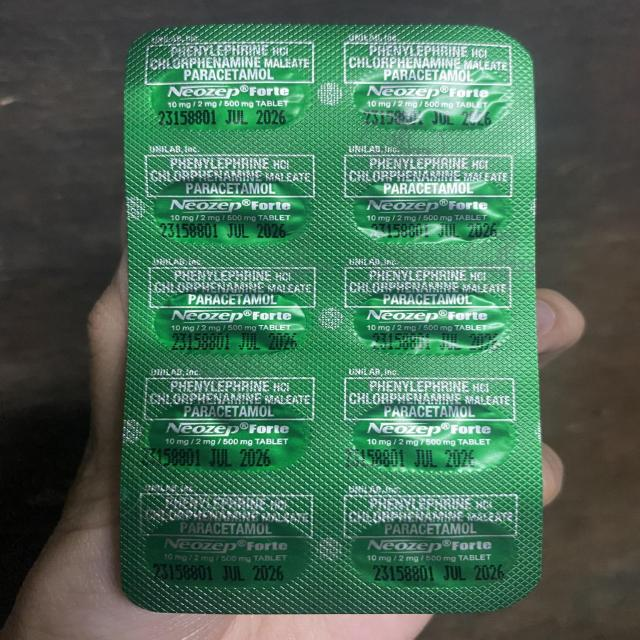Neozep_Strip: (102, 12, 560, 618)
